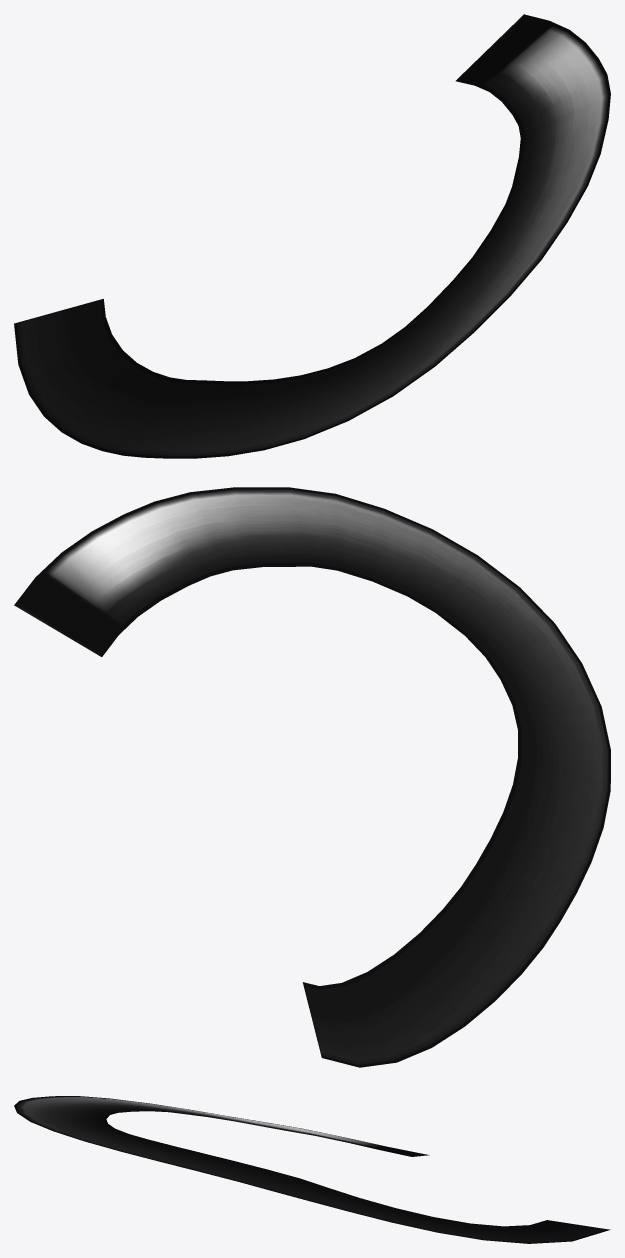
The model's file is effect_models-06.FBX.
The picture shows the model from 3 angles, top to bottom: view 1: azimuth 30°, elevation 25°; view 2: azimuth 150°, elevation 25°; view 3: azimuth 270°, elevation 25°; orthographic projection. The views are drawn at different scales.
Visible parts, largest first — view 1: Plane001; view 2: Plane001; view 3: Plane001.
Part boxes in pixels (x1=…): Plane001: x1=14, y1=14, x2=610, y2=458; Plane001: x1=14, y1=487, x2=610, y2=1067; Plane001: x1=14, y1=1096, x2=610, y2=1243.
Bounding box in the file's own units: 1.84 × 1.28 × 2.24.
1 material, 1 textured.
